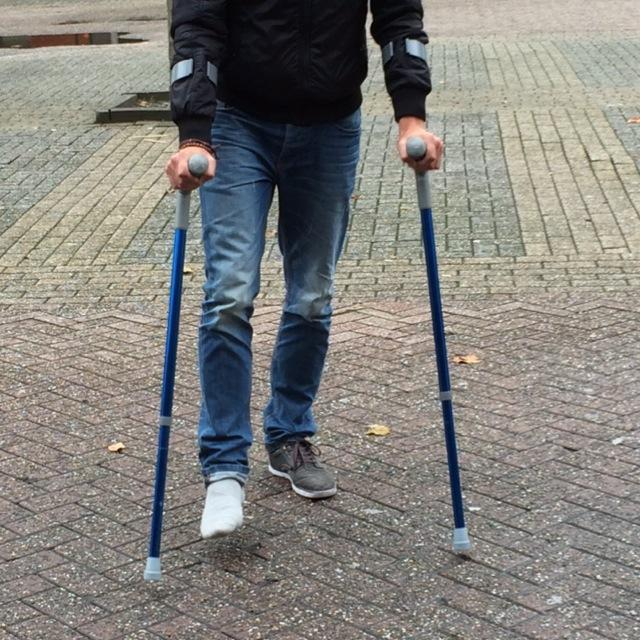crutches: (144, 1, 472, 581)
